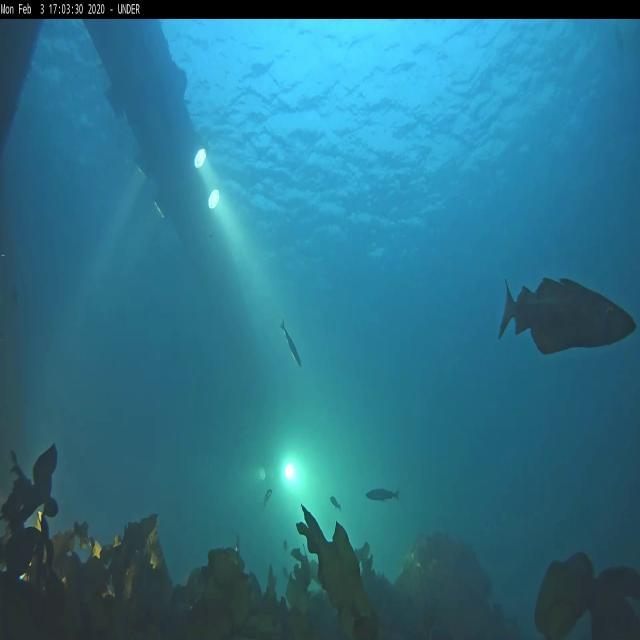fish: (500, 279, 638, 356), (280, 318, 302, 367), (366, 488, 401, 502), (330, 494, 342, 511), (263, 488, 272, 506), (282, 536, 290, 552)
